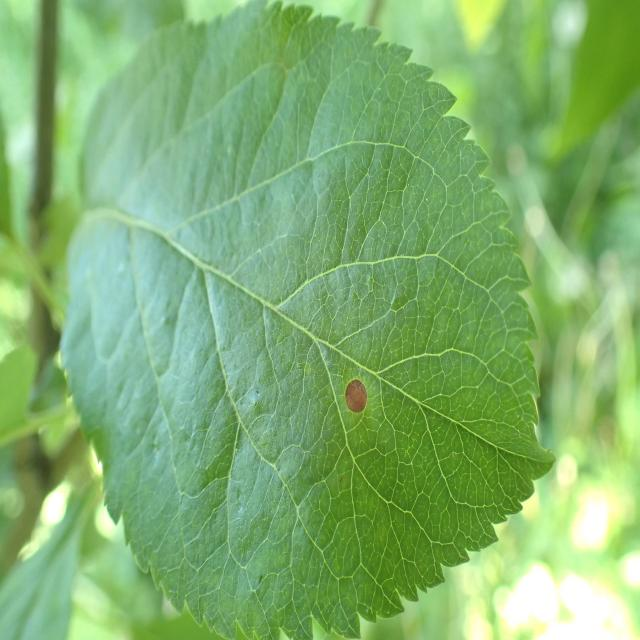frog-eye-leaf-spot: (60, 0, 558, 639)
